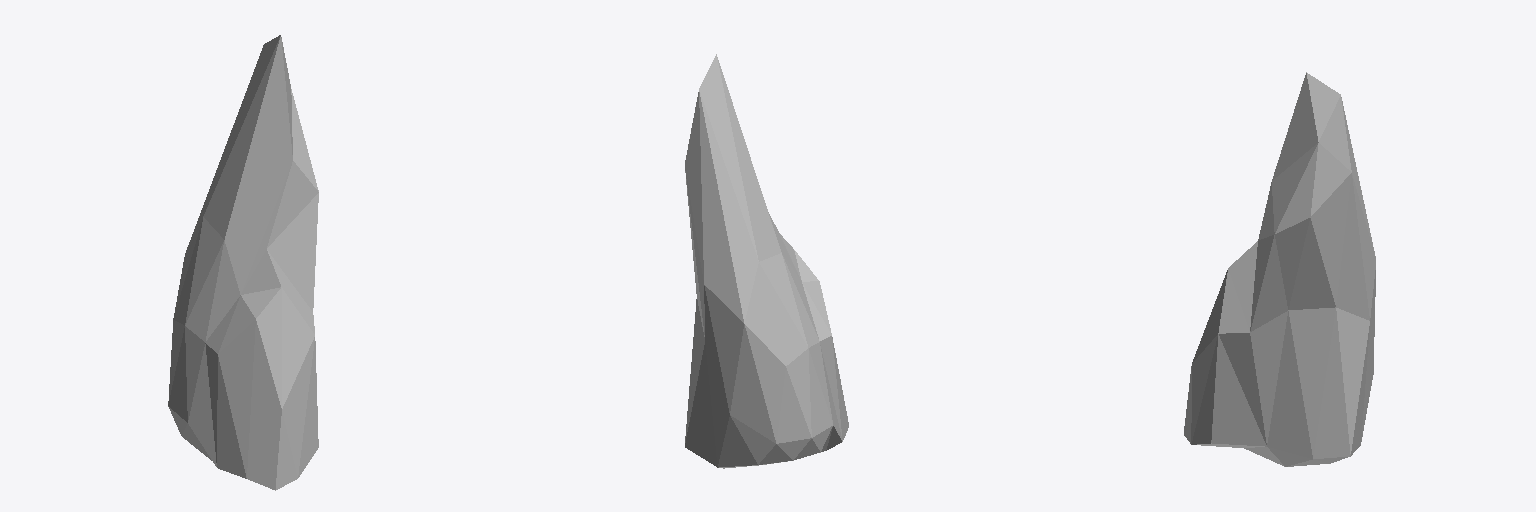
Rendered from rock5.obj.
The picture shows the model from 3 angles: view 1: azimuth 30°, elevation 25°; view 2: azimuth 150°, elevation 25°; view 3: azimuth 270°, elevation 25°; orthographic projection.
Visible parts, largest first — view 1: r10_Icosphere.006; view 2: r10_Icosphere.006; view 3: r10_Icosphere.006.
Part boxes in pixels (x1,y1,x2,y2): r10_Icosphere.006: (168, 35, 318, 490); r10_Icosphere.006: (685, 54, 848, 468); r10_Icosphere.006: (1184, 72, 1375, 466).
Bounding box in the file's own units: 7.2 × 20.87 × 9.01.